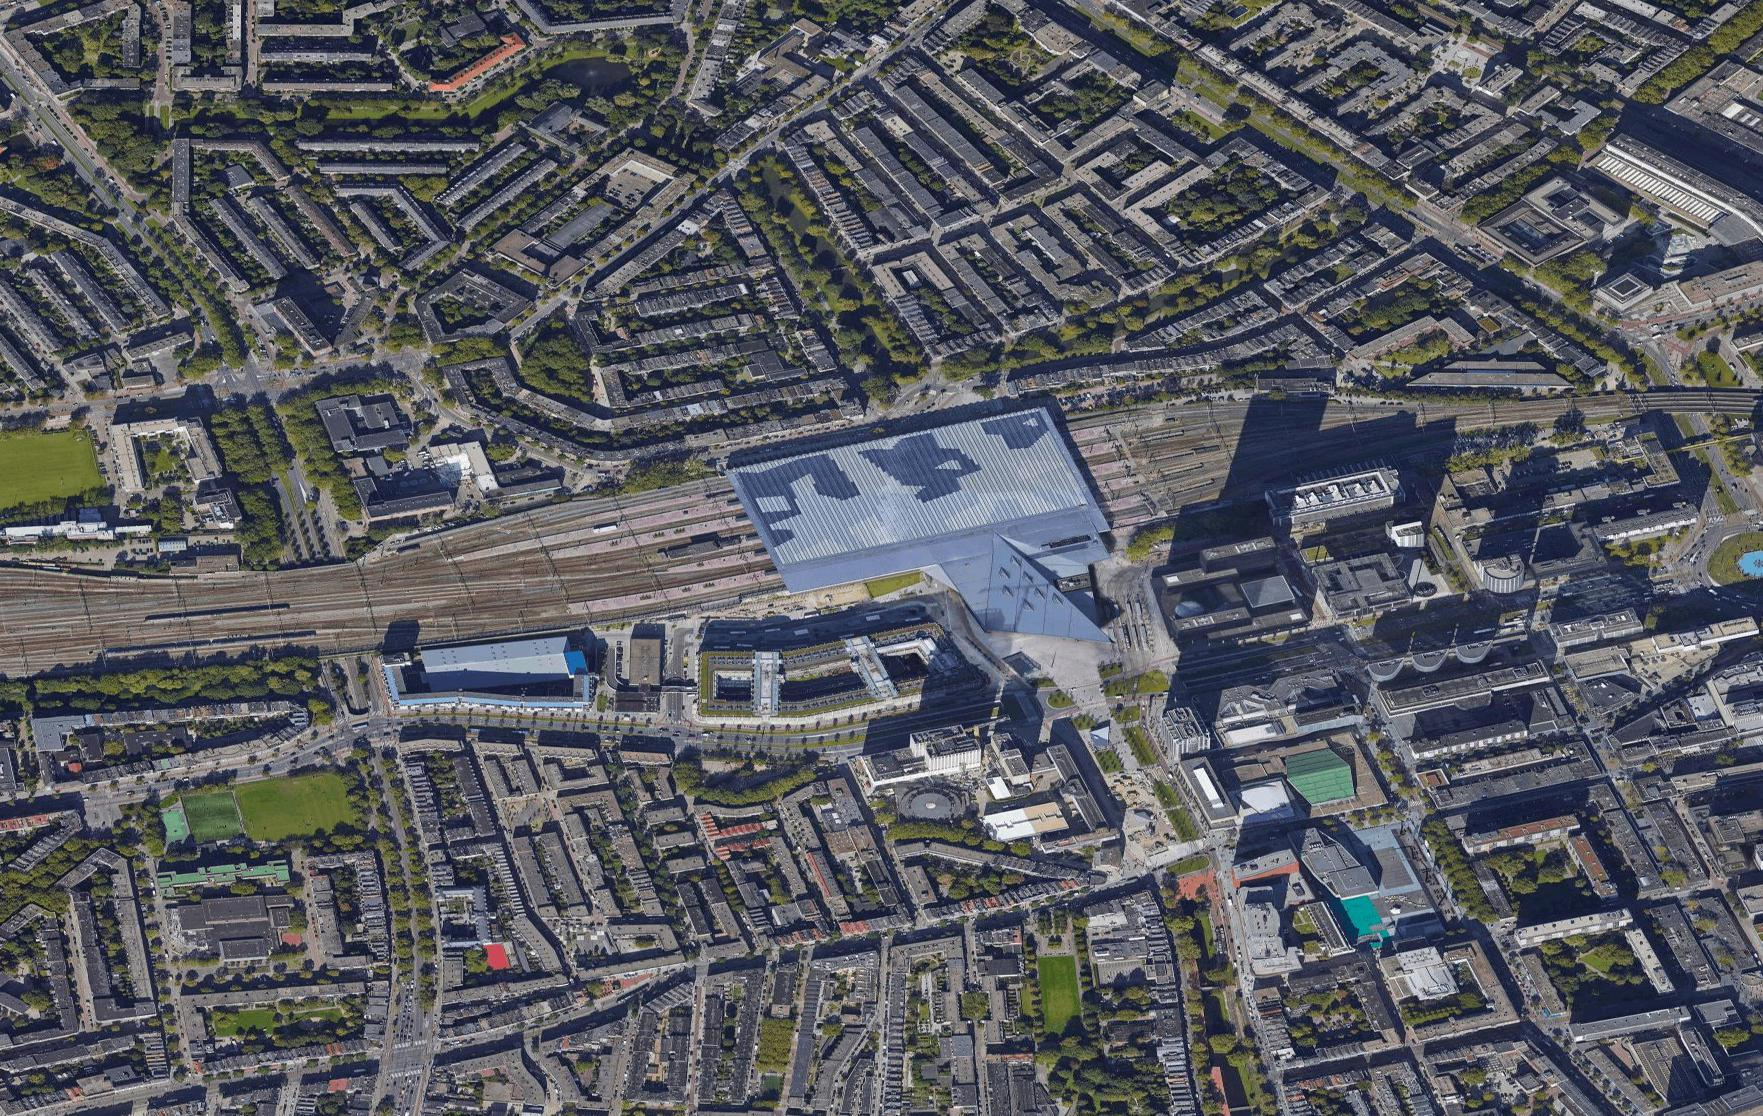train_station: (690, 387, 1149, 639)
